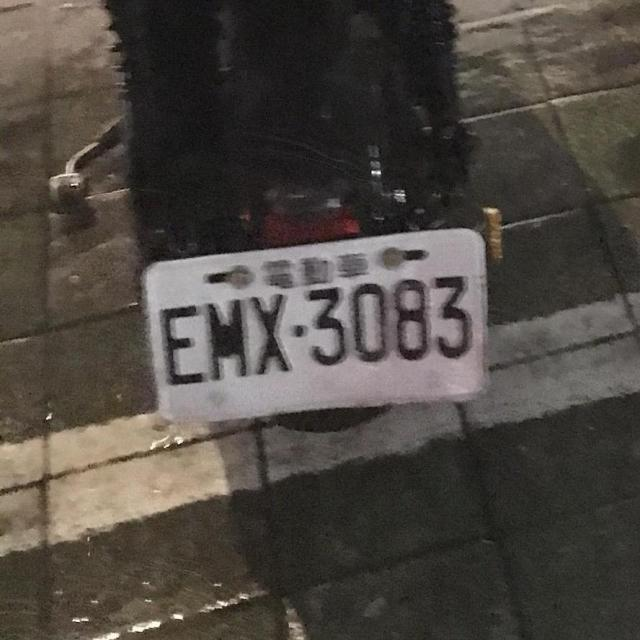W: (140, 226, 492, 428)
